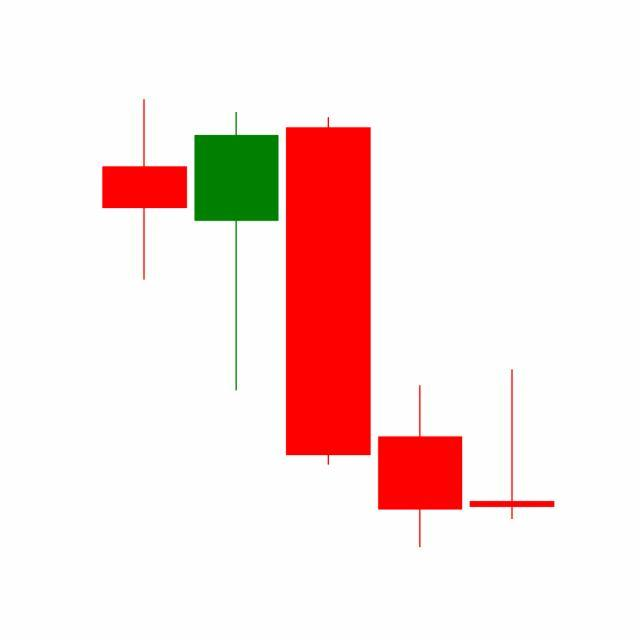Three Outside Up-Down: (190, 107, 467, 548)
